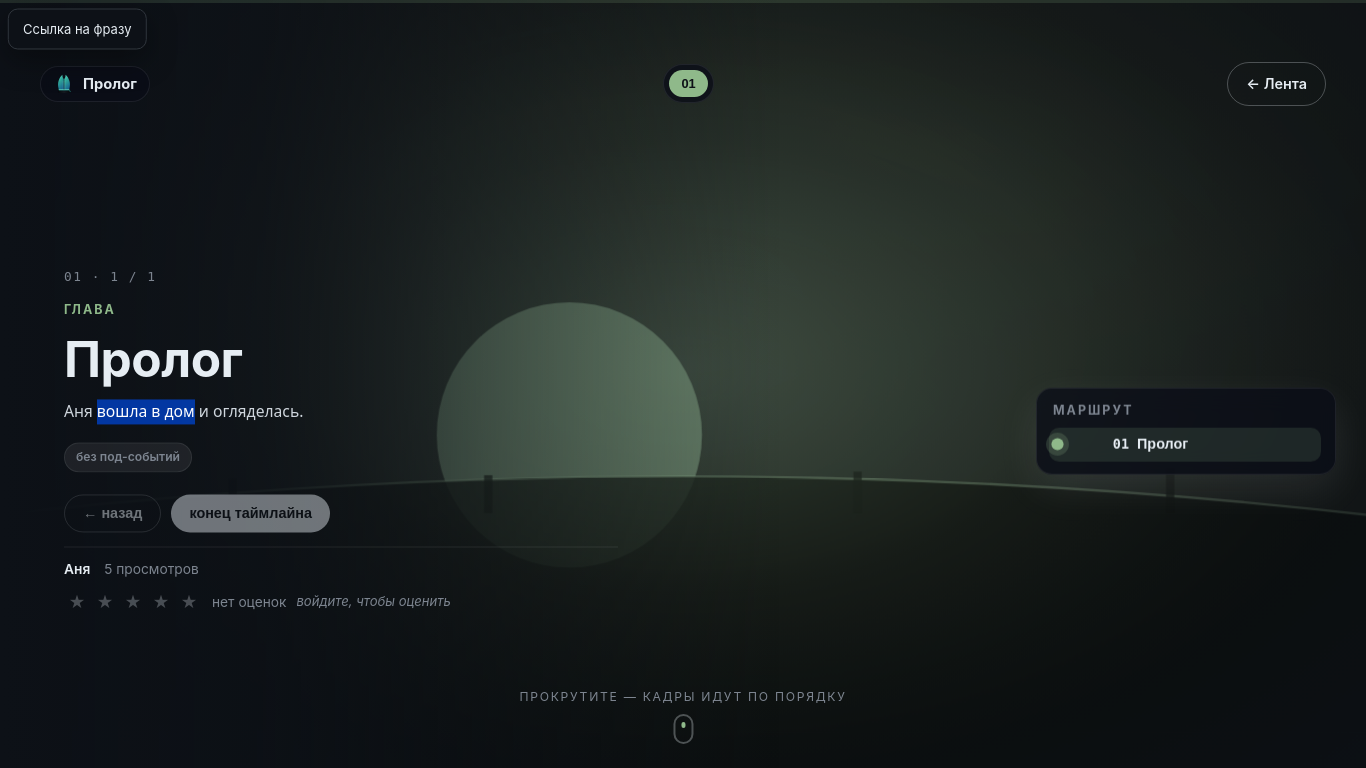
Test: публичная история — ссылка на фразу › у читателя в меню одно действие, и оно даёт адрес с кадром и фразой
The width and height of the screenshot is (1366, 768).
Expected: the element showing "Аня вошла в дом и огляделась." is shown, [64,401,303,423]
Click the button "Ссылка на фразу" at (77, 29), box [13,13,141,44]
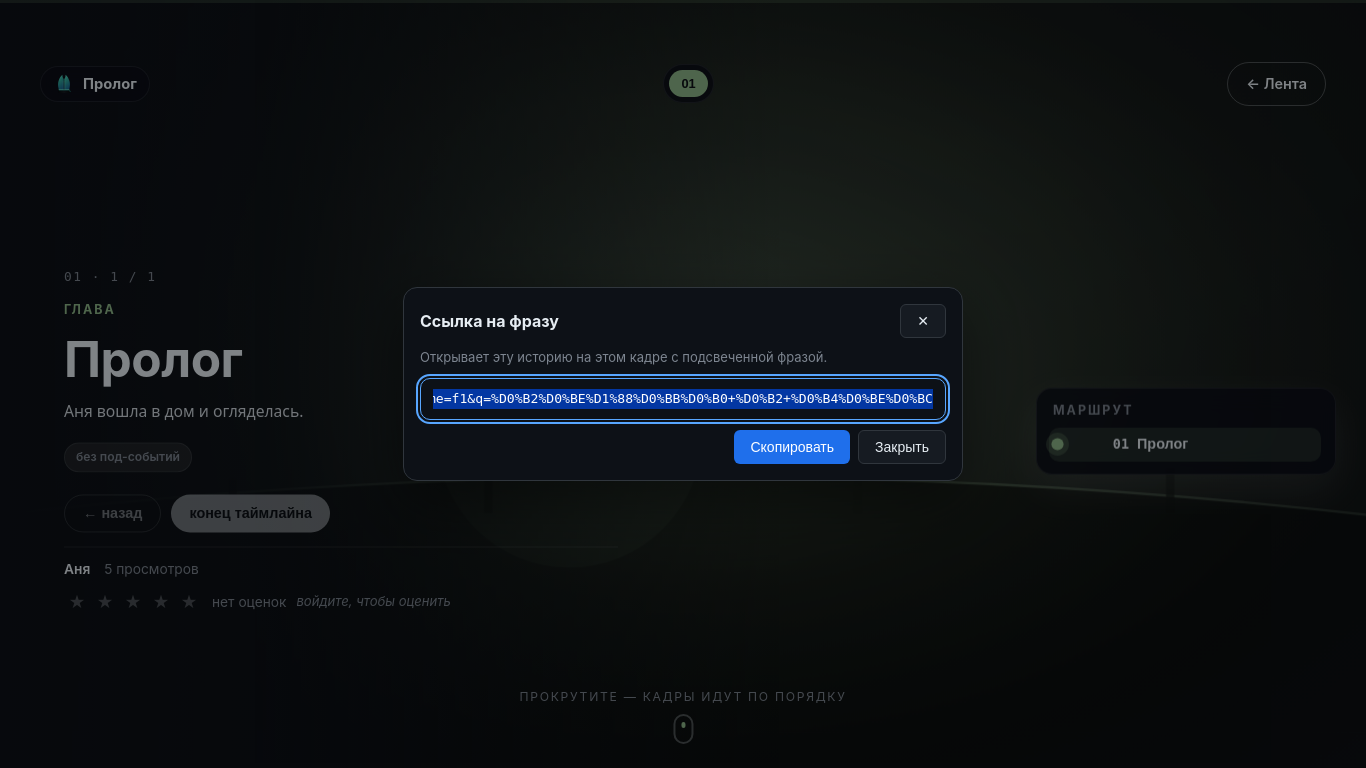
Expected: the dialog "Ссылка на фразу" is shown
Click the button "Скопировать" at (792, 447), box [734,430,850,464]
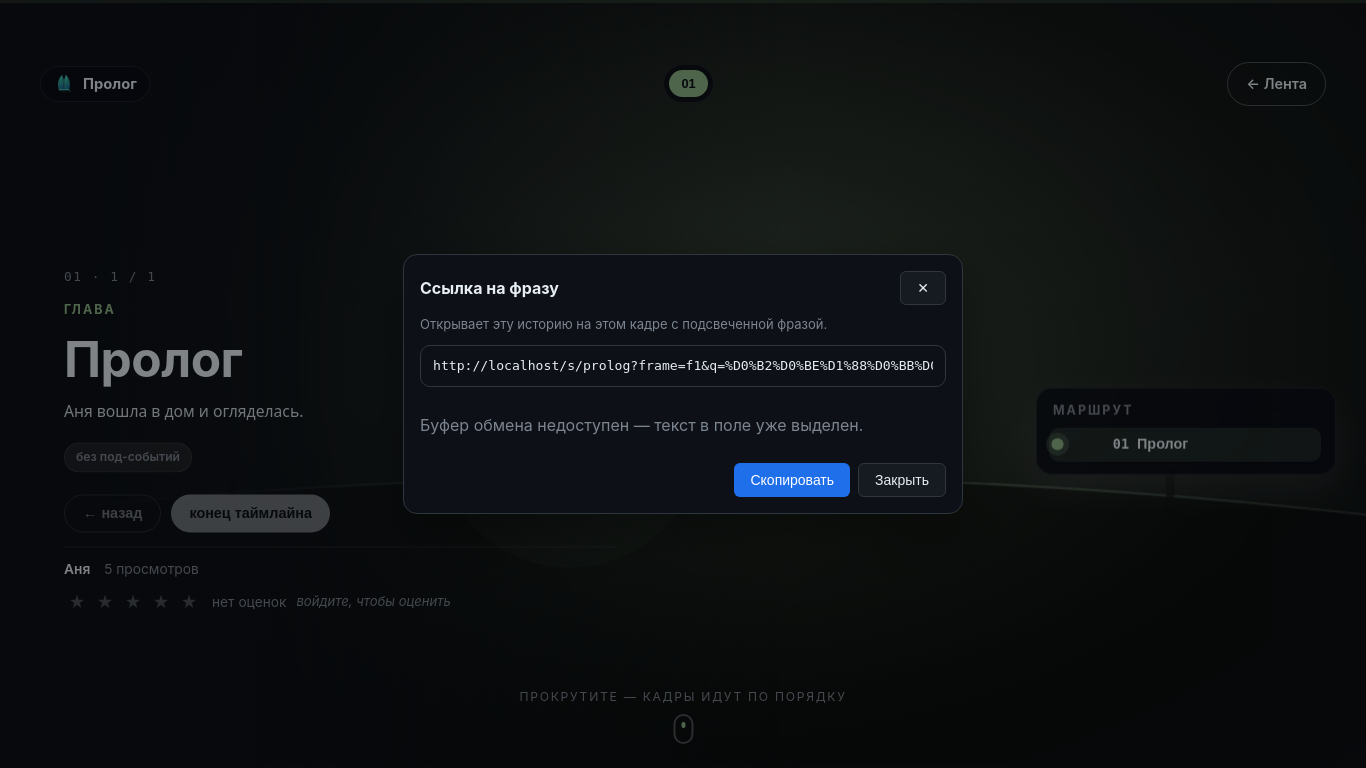
Expected: the message "Буфер обмена недоступен — текст в поле уже выделен." is shown, [420,415,863,435]
